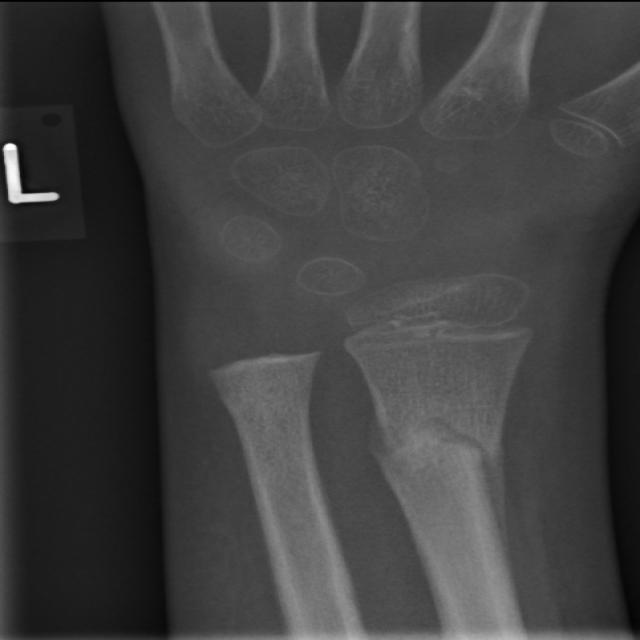radius fracture: (356, 368, 582, 568)
